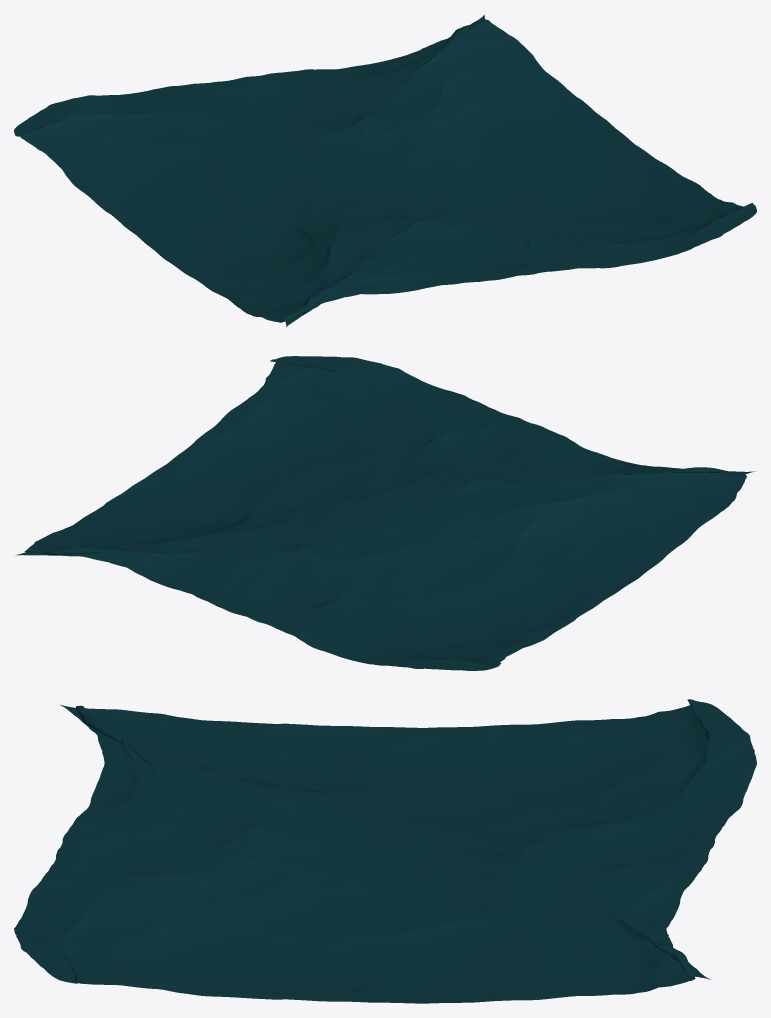
File: CaveCeiling.fbx
3 views of the same model, one above another, from view 1: azimuth 30°, elevation 25°; view 2: azimuth 150°, elevation 25°; view 3: azimuth 270°, elevation 25° (orthographic). The views are drawn at different scales.
Parts seen in each view (by area): view 1: CaveCeiling; view 2: CaveCeiling; view 3: CaveCeiling.
Boxes of the visible parts, x1=… form: CaveCeiling: x1=14, y1=14, x2=756, y2=327; CaveCeiling: x1=14, y1=356, x2=755, y2=670; CaveCeiling: x1=14, y1=699, x2=756, y2=1003.
Size of the model in its own units: 51324 by 2737 by 56944.
